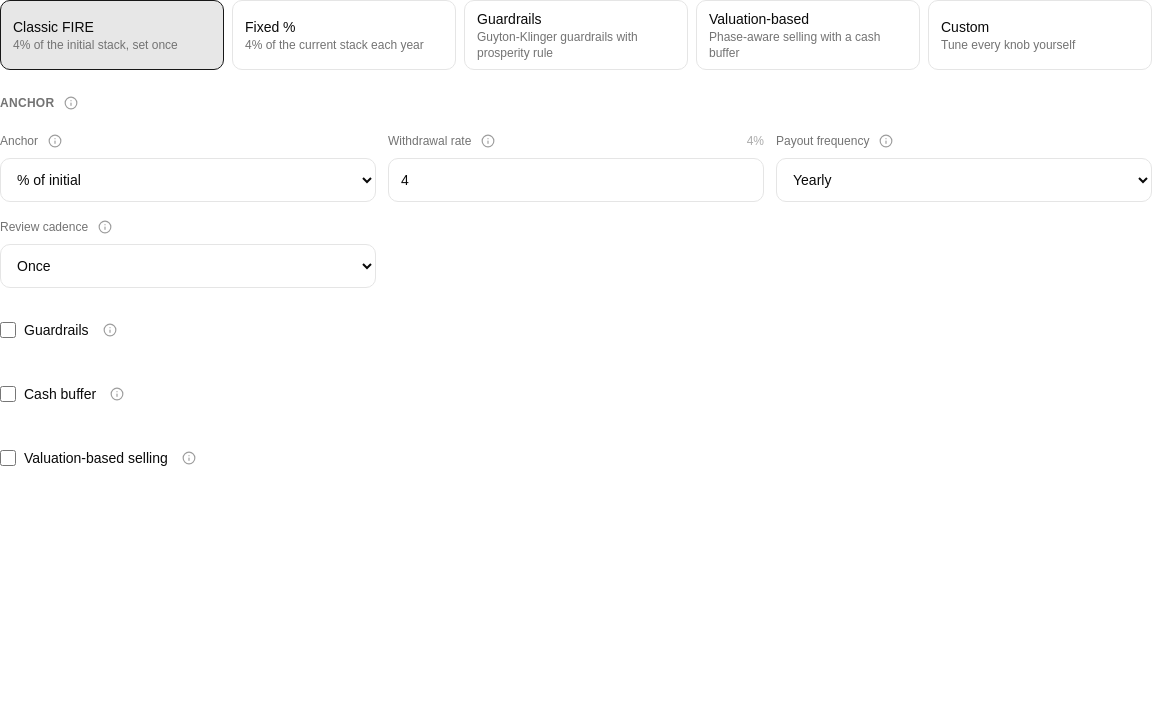
Test case: WithdrawalTab › opening an info popover does not toggle switches or change knobs
Click the button named "About Valuation-based selling" at x=189, y=458, box [176,445,202,471]
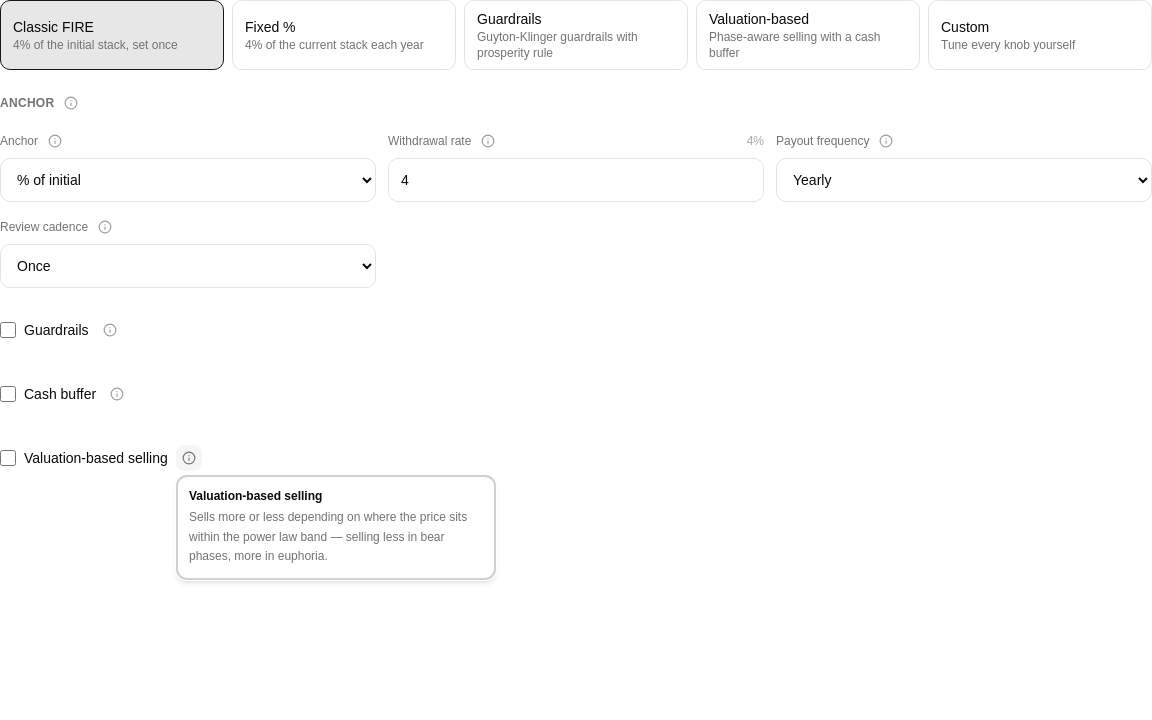
Expected: the switch labelled "Valuation-based selling" is not checked, [0,450,16,466]
Result: the text "Sells more or less depending on where the price sits" is shown at [189,510,467,563]
